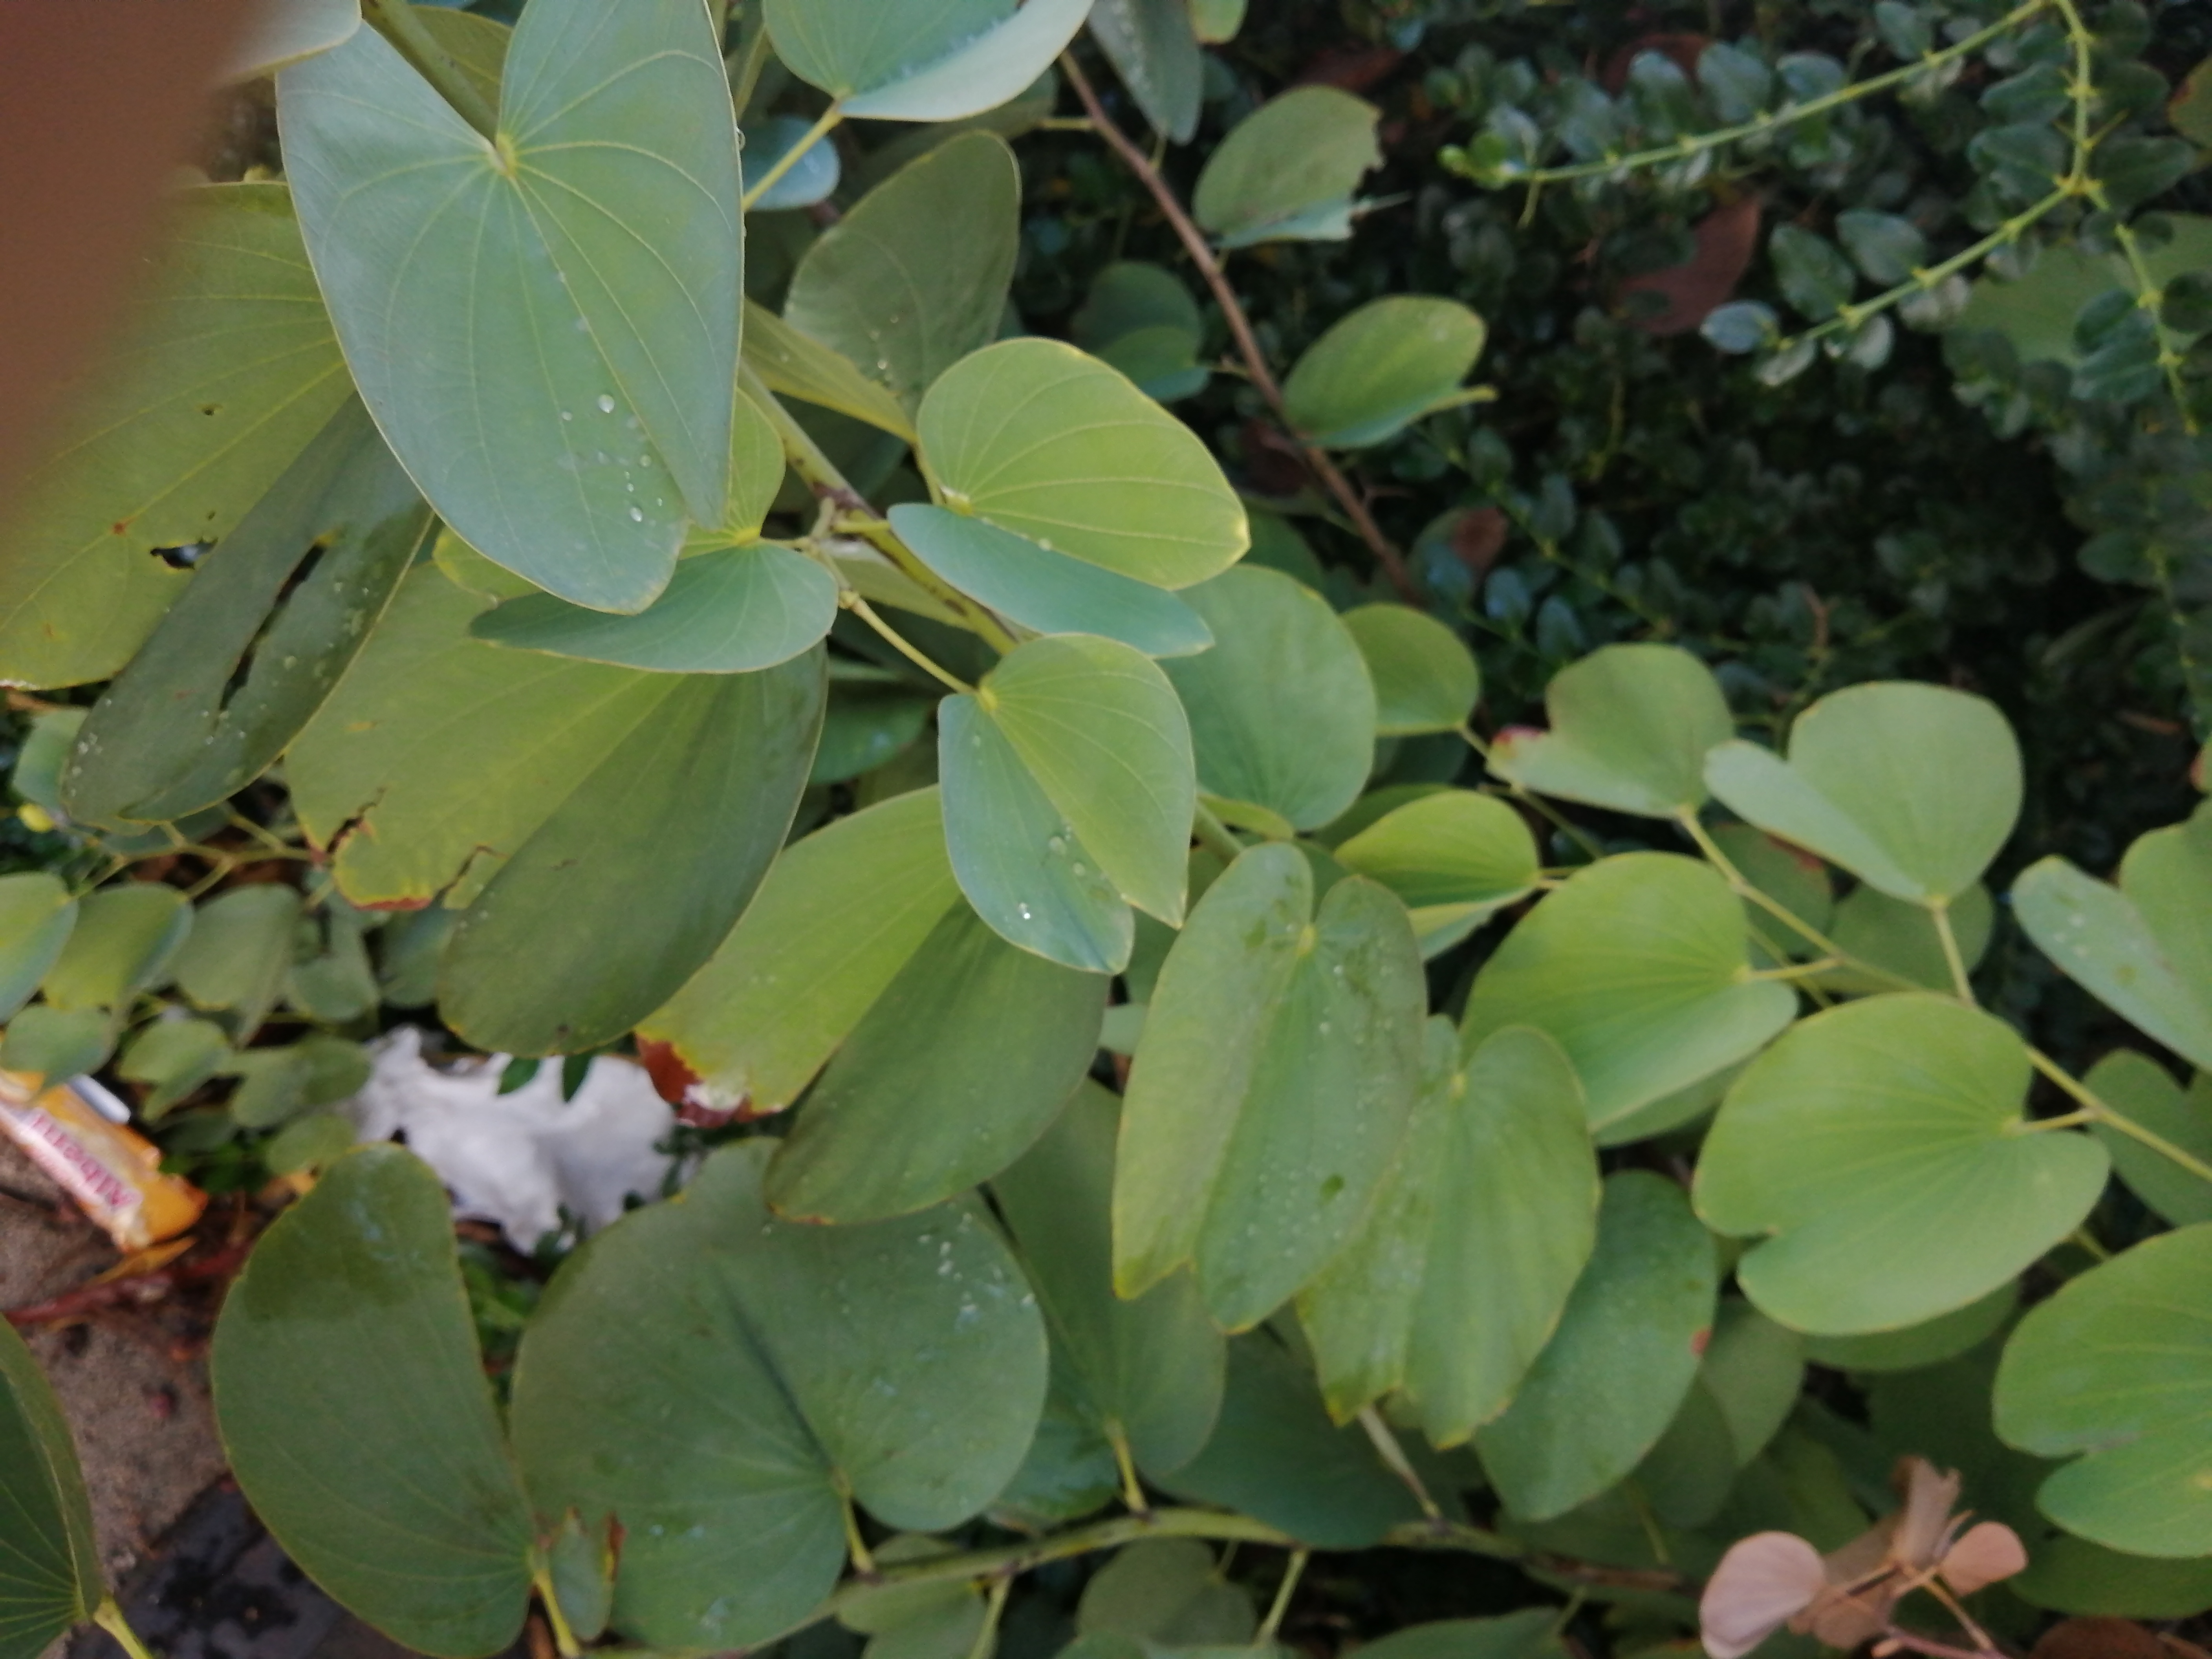healthy: (221, 7, 812, 627), (542, 1114, 1003, 1619), (1087, 809, 1411, 1335), (1669, 1000, 2153, 1330), (869, 324, 1242, 669), (934, 631, 1177, 993), (1737, 641, 2059, 913), (1474, 843, 1780, 1127)
